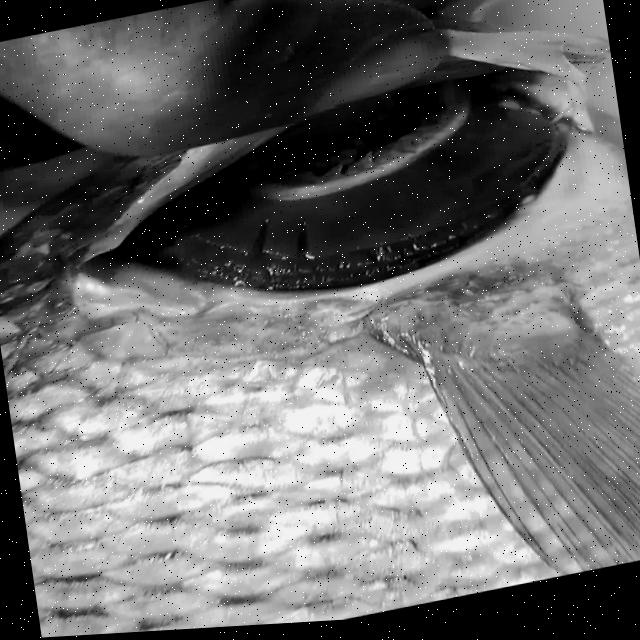Fresh: (71, 64, 610, 341)
